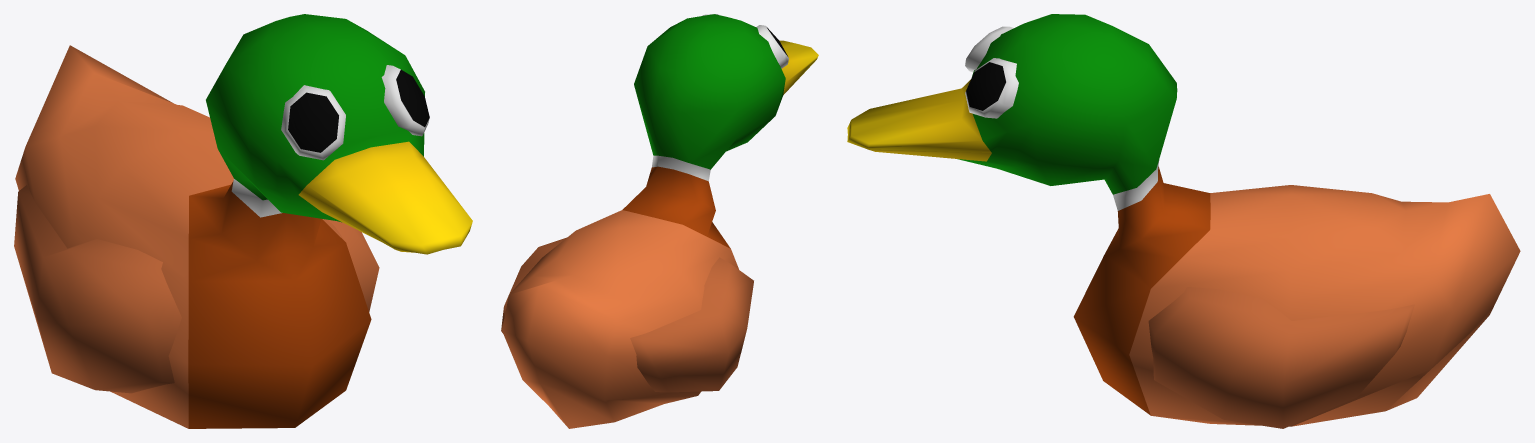
Rendered from PatoAlucinado.fbx.
3 renders of one model, left to right at view 1: azimuth 30°, elevation 25°; view 2: azimuth 150°, elevation 25°; view 3: azimuth 270°, elevation 25°, orthographic. The views are drawn at different scales.
Visible parts, largest first — view 1: PatoAlucinado; view 2: PatoAlucinado; view 3: PatoAlucinado.
Boxes of the visible parts, <box> form: PatoAlucinado: <box>14,14,472,428</box>; PatoAlucinado: <box>501,14,818,428</box>; PatoAlucinado: <box>847,14,1520,428</box>.
Size of the model in its own units: 37.46 by 53.49 by 83.1.
